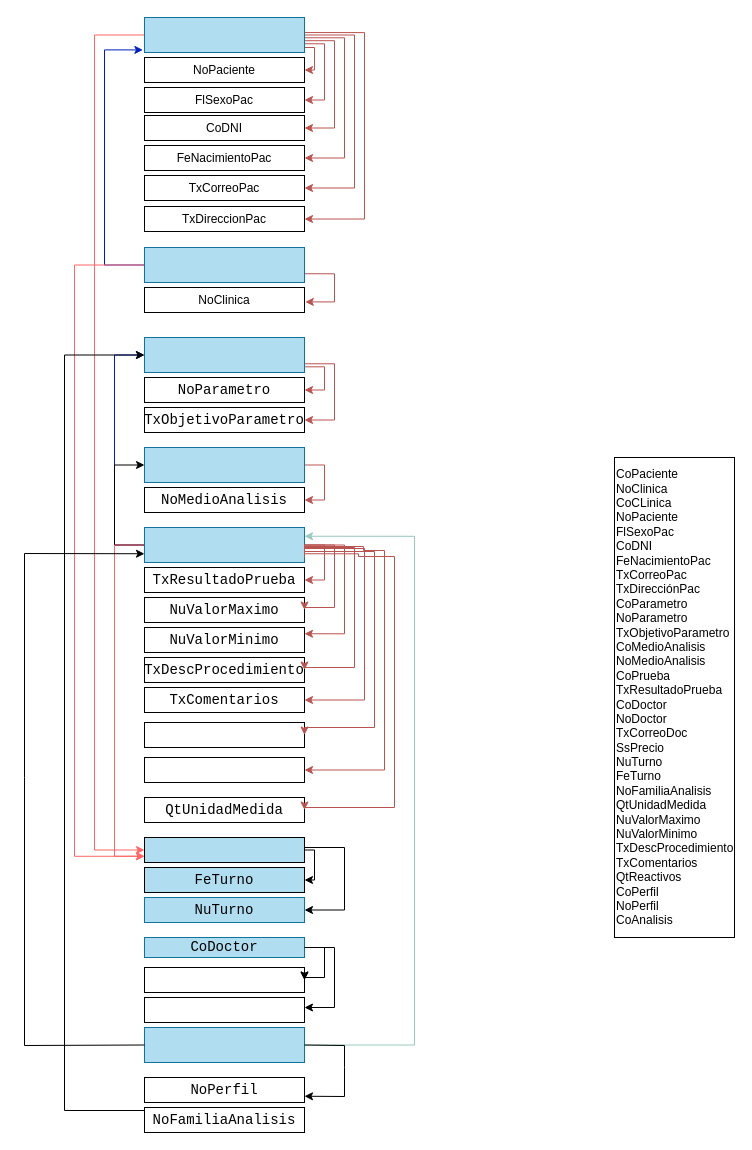
Some shapes in this 752 by 1150 pixel diagram are drawn without their labels. The centre of each missing label's shape, as x and y in pixels:
"CoCLinica" goes at pixel 224 264.
"CoMedioAnalisis" goes at pixel 224 464.
"CoOrdenAtencion" goes at pixel 224 849.
"CoPaciente" goes at pixel 224 34.
"CoParametro" goes at pixel 224 354.
"CoPerfil" goes at pixel 224 1044.
"CoPrueba" goes at pixel 224 544.
"NoDoctor" goes at pixel 224 979.
"QtReactivos" goes at pixel 224 769.
"SsPrecio" goes at pixel 224 735.
"TxCorreoDoc" goes at pixel 224 1009.
